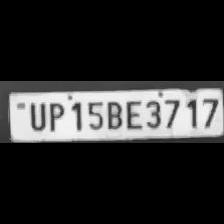1: (181, 96, 199, 130), (65, 99, 83, 131)
3: (142, 96, 162, 130)
5: (83, 98, 103, 132)
7: (161, 96, 181, 130), (198, 96, 218, 128)
B: (104, 98, 122, 130)
E: (123, 97, 143, 130)
P: (45, 100, 65, 132)
U: (25, 99, 48, 131)
